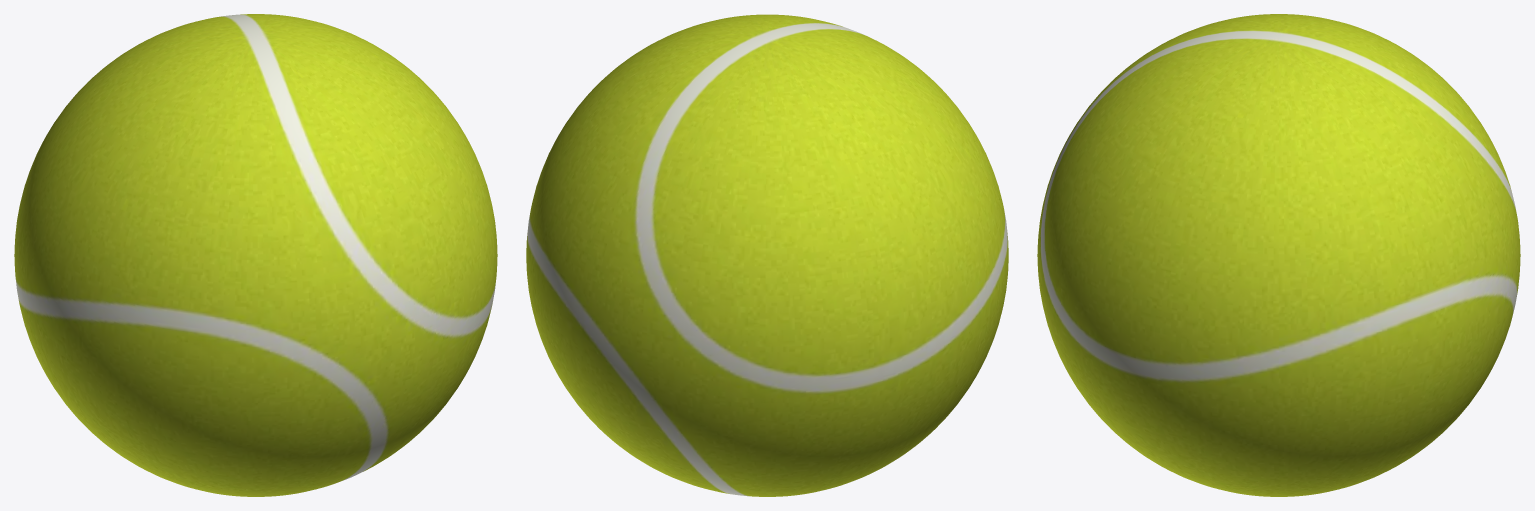
Rendered from ball-tennis.glb.
3 renders of one model, left to right at view 1: azimuth 30°, elevation 25°; view 2: azimuth 150°, elevation 25°; view 3: azimuth 270°, elevation 25°, orthographic.
Parts seen in each view (by area): view 1: Ball; view 2: Ball; view 3: Ball.
Boxes of the visible parts, bbox=[...] form: Ball: bbox=[14, 14, 497, 496]; Ball: bbox=[526, 14, 1008, 496]; Ball: bbox=[1037, 14, 1520, 496].
Size of the model in its own units: 0.0667 by 0.0667 by 0.0667.
Materials: 2 (2 with a texture image).
